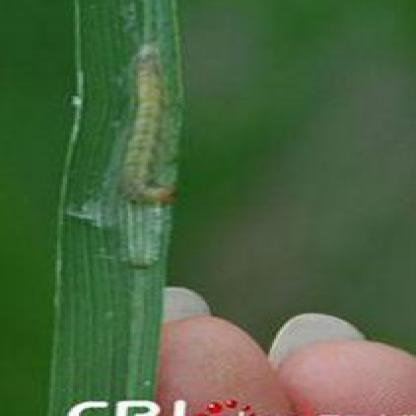leaf-folder: (99, 36, 212, 235)
